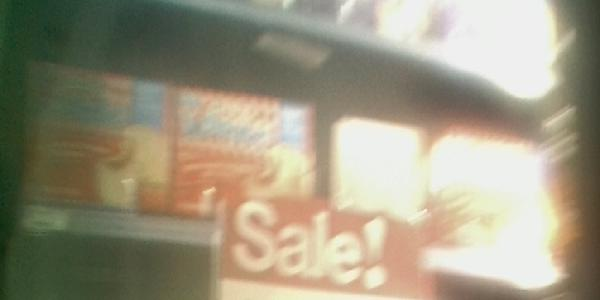icecream: (16, 55, 169, 220), (176, 84, 318, 229)
